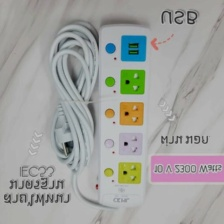three_eye_plug: (92, 20, 152, 211)
